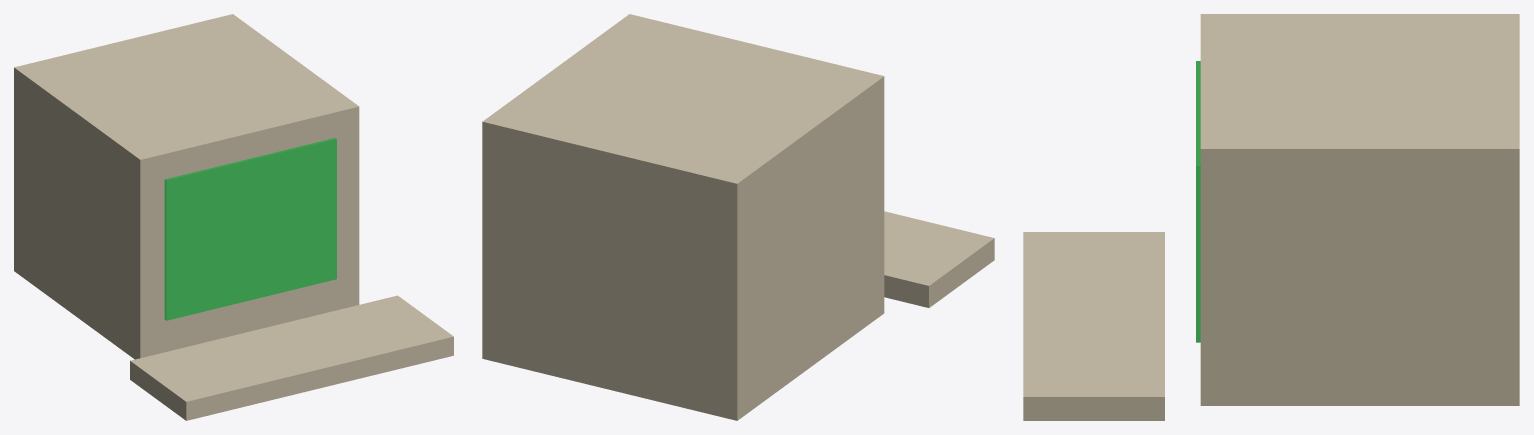
Rendered from terminal-green.glb.
The picture shows the model from 3 angles, left to right: view 1: azimuth 30°, elevation 25°; view 2: azimuth 150°, elevation 25°; view 3: azimuth 270°, elevation 25°; orthographic projection. The views are drawn at different scales.
Parts seen in each view (by area): view 1: kit-terminal, SCREEN; view 2: kit-terminal; view 3: kit-terminal, SCREEN.
Boxes of the visible parts, box(x1,y1,x2,y2) form: kit-terminal: box(14, 14, 453, 420); SCREEN: box(164, 138, 336, 320); kit-terminal: box(482, 14, 994, 420); kit-terminal: box(1023, 14, 1519, 420); SCREEN: box(1196, 61, 1200, 342).
Size of the model in its own units: 0.44 by 0.32 by 0.56.
